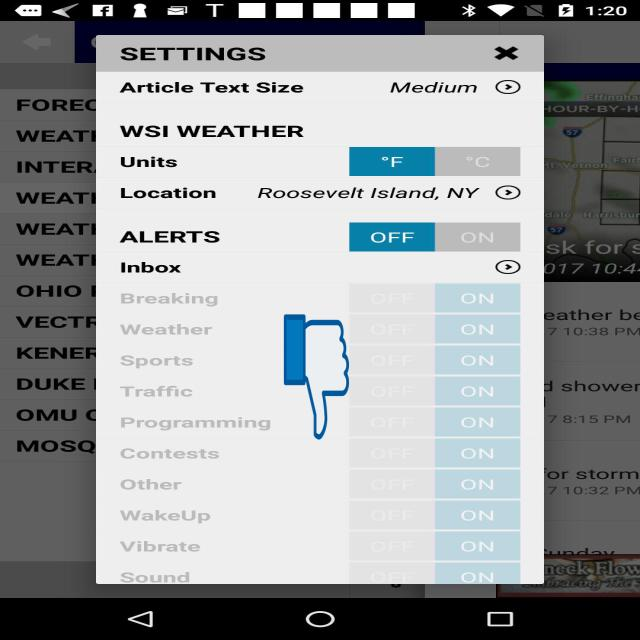obstruction: (284, 312, 349, 442)
